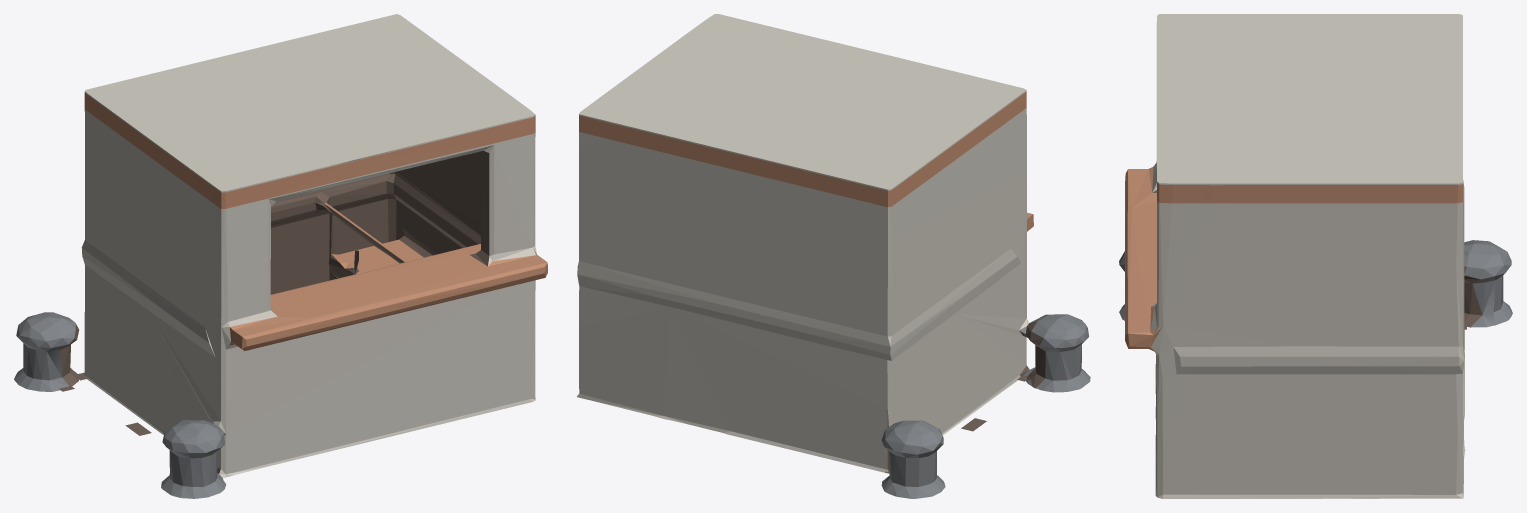
File: etape-1.glb
3 views of the same model, side by side, from view 1: azimuth 30°, elevation 25°; view 2: azimuth 150°, elevation 25°; view 3: azimuth 270°, elevation 25° (orthographic). The views are drawn at different scales.
Parts seen in each view (by area): view 1: geometry_0; view 2: geometry_0; view 3: geometry_0.
Boxes of the visible parts, left/top/right/bottom form: geometry_0: left=14, top=14, right=547, bottom=498; geometry_0: left=577, top=14, right=1090, bottom=498; geometry_0: left=1119, top=14, right=1512, bottom=498.
Bounding box in the file's own units: 0.8845 × 0.6431 × 0.7296.
